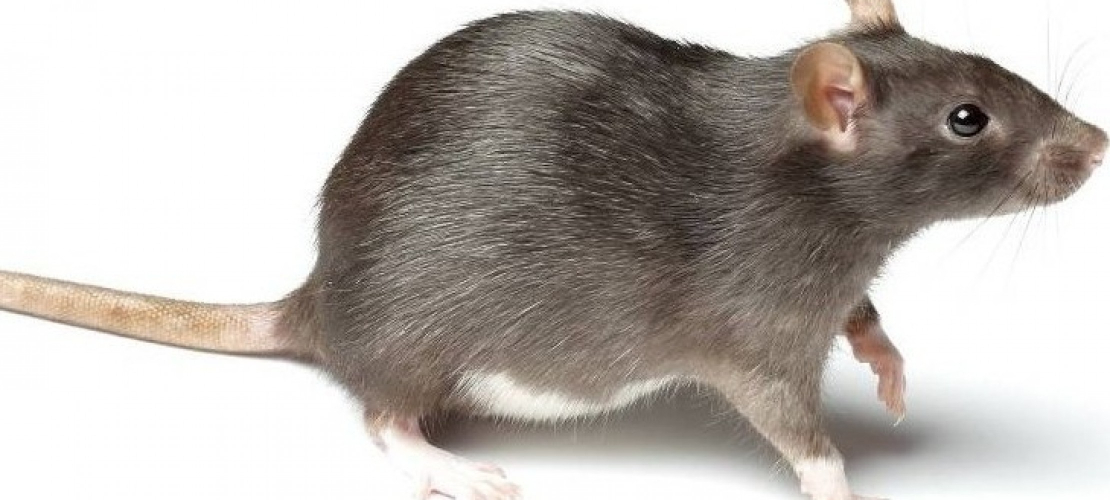rat: (5, 3, 1110, 500)
